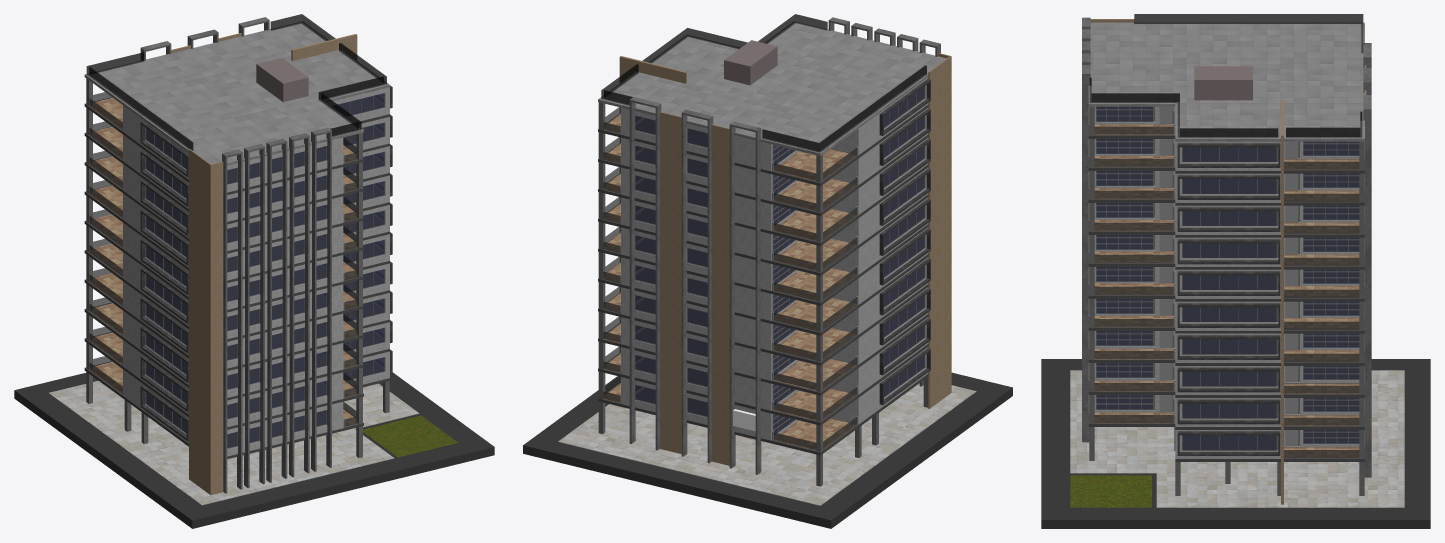
File: building2.glb
3 views of the same model, side by side, from view 1: azimuth 30°, elevation 25°; view 2: azimuth 150°, elevation 25°; view 3: azimuth 270°, elevation 25° (orthographic). The views are drawn at different scales.
Parts seen in each view (by area): view 1: Line051, Box104, Line061, Box084, Line058, Line057, Line055, Line056, Line059, Line089, Line017 (×2), Line088 (+45 smaller); view 2: Line051, Line061, Box104, Box084, Box081, Box082, Line054, Line052, Line053, Line081, Line082, Line089 (+53 smaller); view 3: Line051, Line061, Box104, Line017 (×2), Line002, Line022, Line012, Line027, Line042, Line007, Line032, Line047 (+100 smaller).
Part boxes in pixels (<box>): Line051: <box>84,21,389,165</box>; Box104: <box>14,372,494,528</box>; Line061: <box>48,380,419,505</box>; Box084: <box>189,149,223,494</box>; Line058: <box>289,133,309,477</box>; Line057: <box>266,138,287,482</box>; Line055: <box>222,149,242,493</box>; Line056: <box>244,144,264,488</box>; Line059: <box>311,127,331,471</box>; Line089: <box>123,87,389,192</box>; Line017 (×2): <box>84,14,389,370</box>; Line088: <box>123,117,389,221</box>; Line051: <box>598,21,946,156</box>; Line061: <box>558,383,976,505</box>; Box104: <box>523,372,1012,528</box>; Box084: <box>928,53,951,408</box>; Box081: <box>660,112,681,453</box>; Box082: <box>711,124,729,465</box>; Line054: <box>729,121,761,474</box>; Line052: <box>629,97,661,450</box>; Line053: <box>681,109,713,463</box>; Line081: <box>621,317,928,410</box>; Line082: <box>621,287,928,380</box>; Line089: <box>621,78,928,171</box>; Line051: <box>1088,22,1364,141</box>; Line061: <box>1070,370,1404,507</box>; Box104: <box>1041,359,1430,528</box>; Line017 (×2): <box>1088,111,1364,365</box>; Line002: <box>1088,395,1364,461</box>; Line022: <box>1088,267,1364,333</box>; Line012: <box>1088,331,1364,397</box>; Line027: <box>1088,235,1364,301</box>; Line042: <box>1088,139,1364,205</box>; Line007: <box>1088,363,1364,429</box>; Line032: <box>1088,203,1364,269</box>; Line047: <box>1088,106,1364,173</box>.
Size of the model in its own units: 35.58 by 39.9 by 36.33.
Materials: 21 (9 with a texture image).
